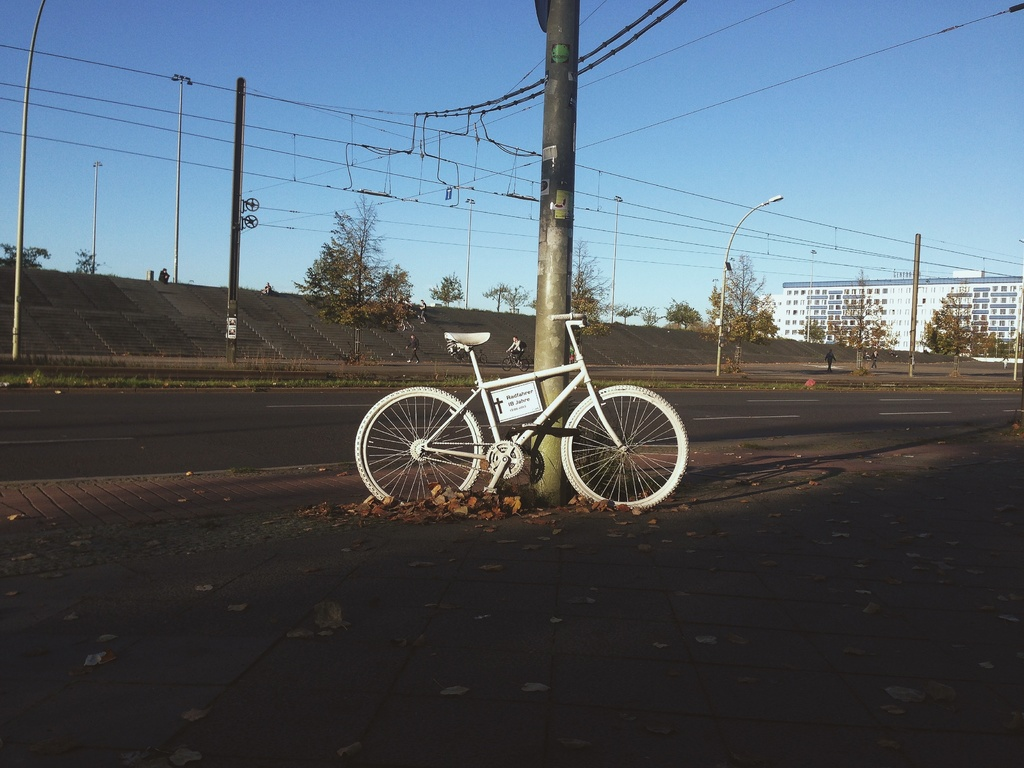Bike_toward: (320, 312, 689, 521)
